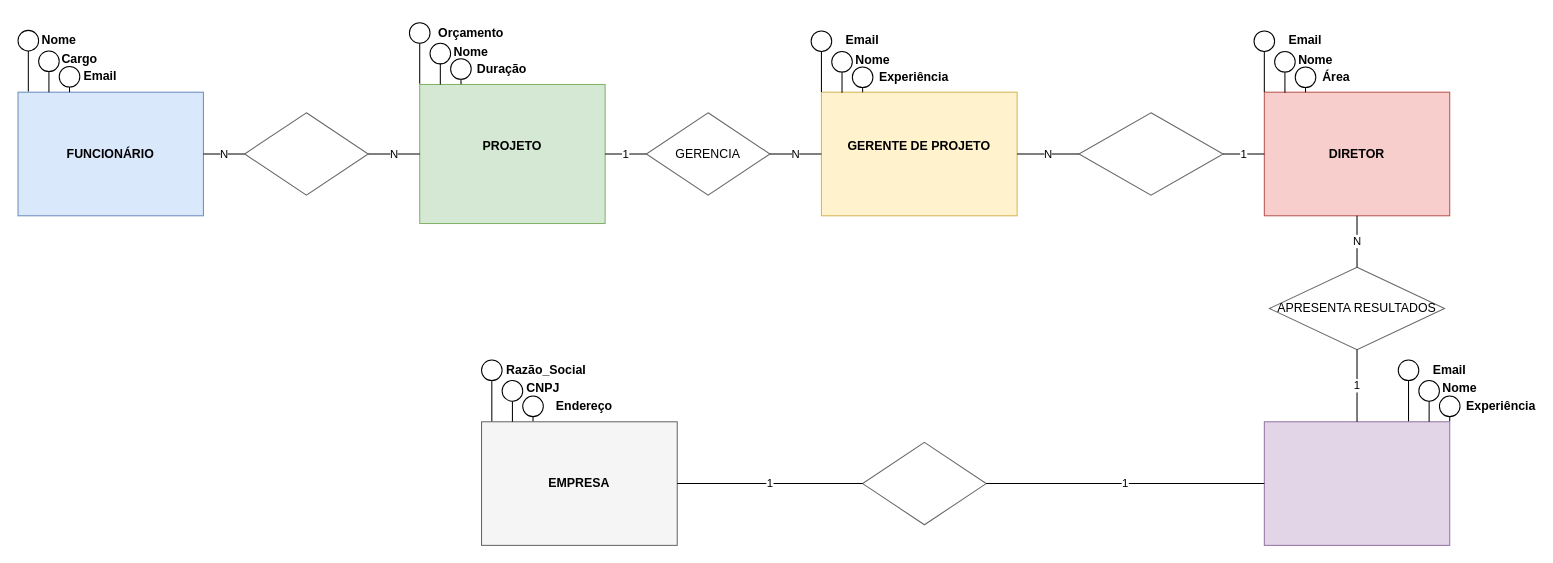
This 1553x563 diagram has some shape labels left out. The shapes that lost their labels are listed below. From the top down, each one's centre as x and y in pixels, then its label:
[306,153]: TRABALHA EM
[1150,153]: REPORTA-SE A
[924,483]: DIRIGE
[1356,483]: CEO
